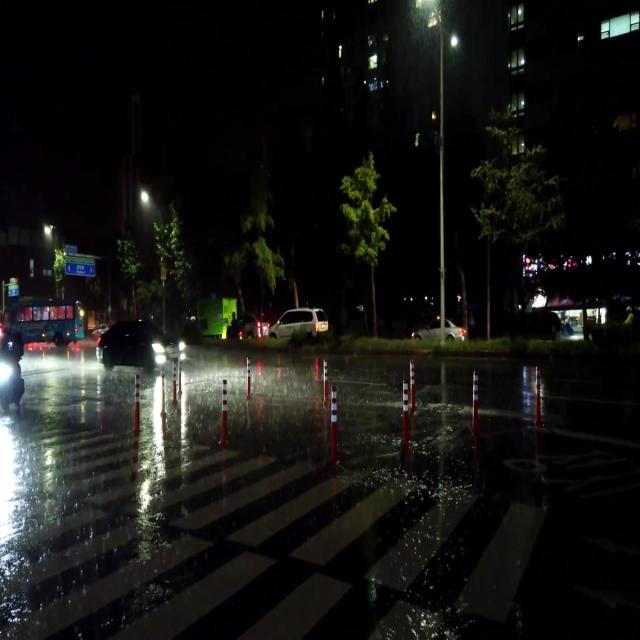Car: (94, 324, 184, 370)
